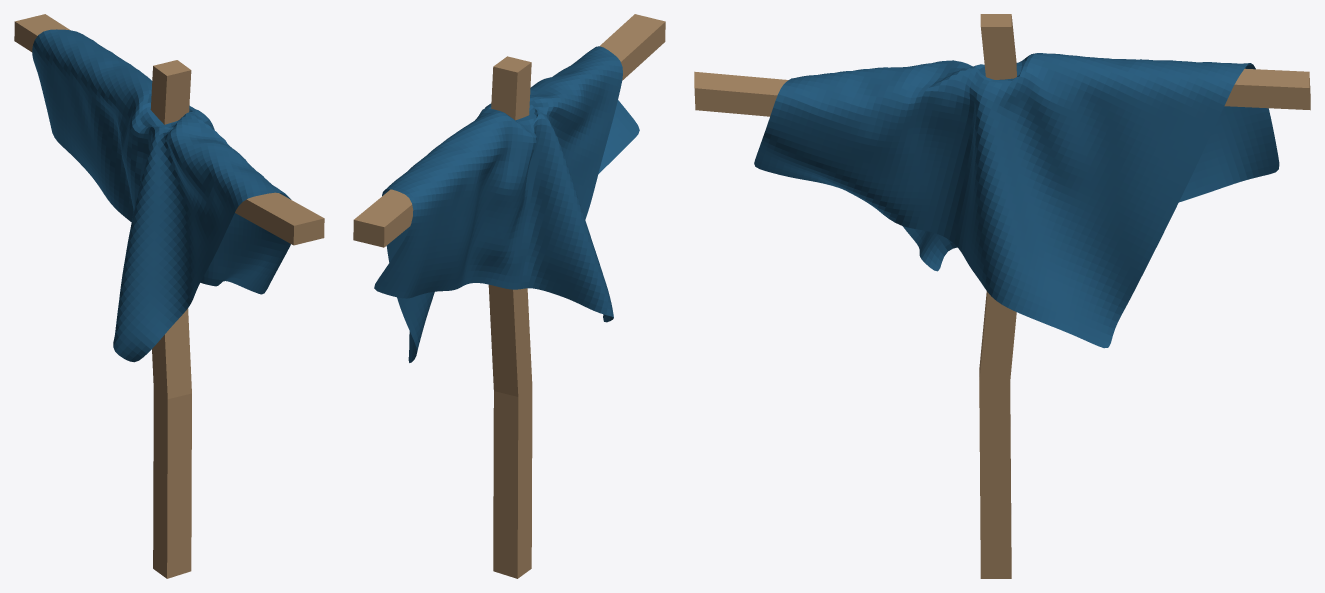
Rendered from body.fbx.
3 renders of one model, left to right at view 1: azimuth 30°, elevation 25°; view 2: azimuth 150°, elevation 25°; view 3: azimuth 270°, elevation 25°, orthographic. The views are drawn at different scales.
Parts seen in each view (by area): view 1: Plane, Cube, Cube.001; view 2: Plane, Cube, Cube.001; view 3: Plane, Cube, Cube.001.
Part boxes in pixels (x1,y1,x2,y2): Plane: [32, 29, 291, 362]; Cube: [150, 60, 191, 578]; Cube.001: [14, 14, 324, 245]; Plane: [374, 46, 639, 362]; Cube: [488, 56, 532, 578]; Cube.001: [353, 14, 665, 247]; Plane: [754, 53, 1279, 348]; Cube: [979, 14, 1016, 578]; Cube.001: [694, 68, 1310, 116].
Size of the model in its own units: 172 by 526 by 530.
